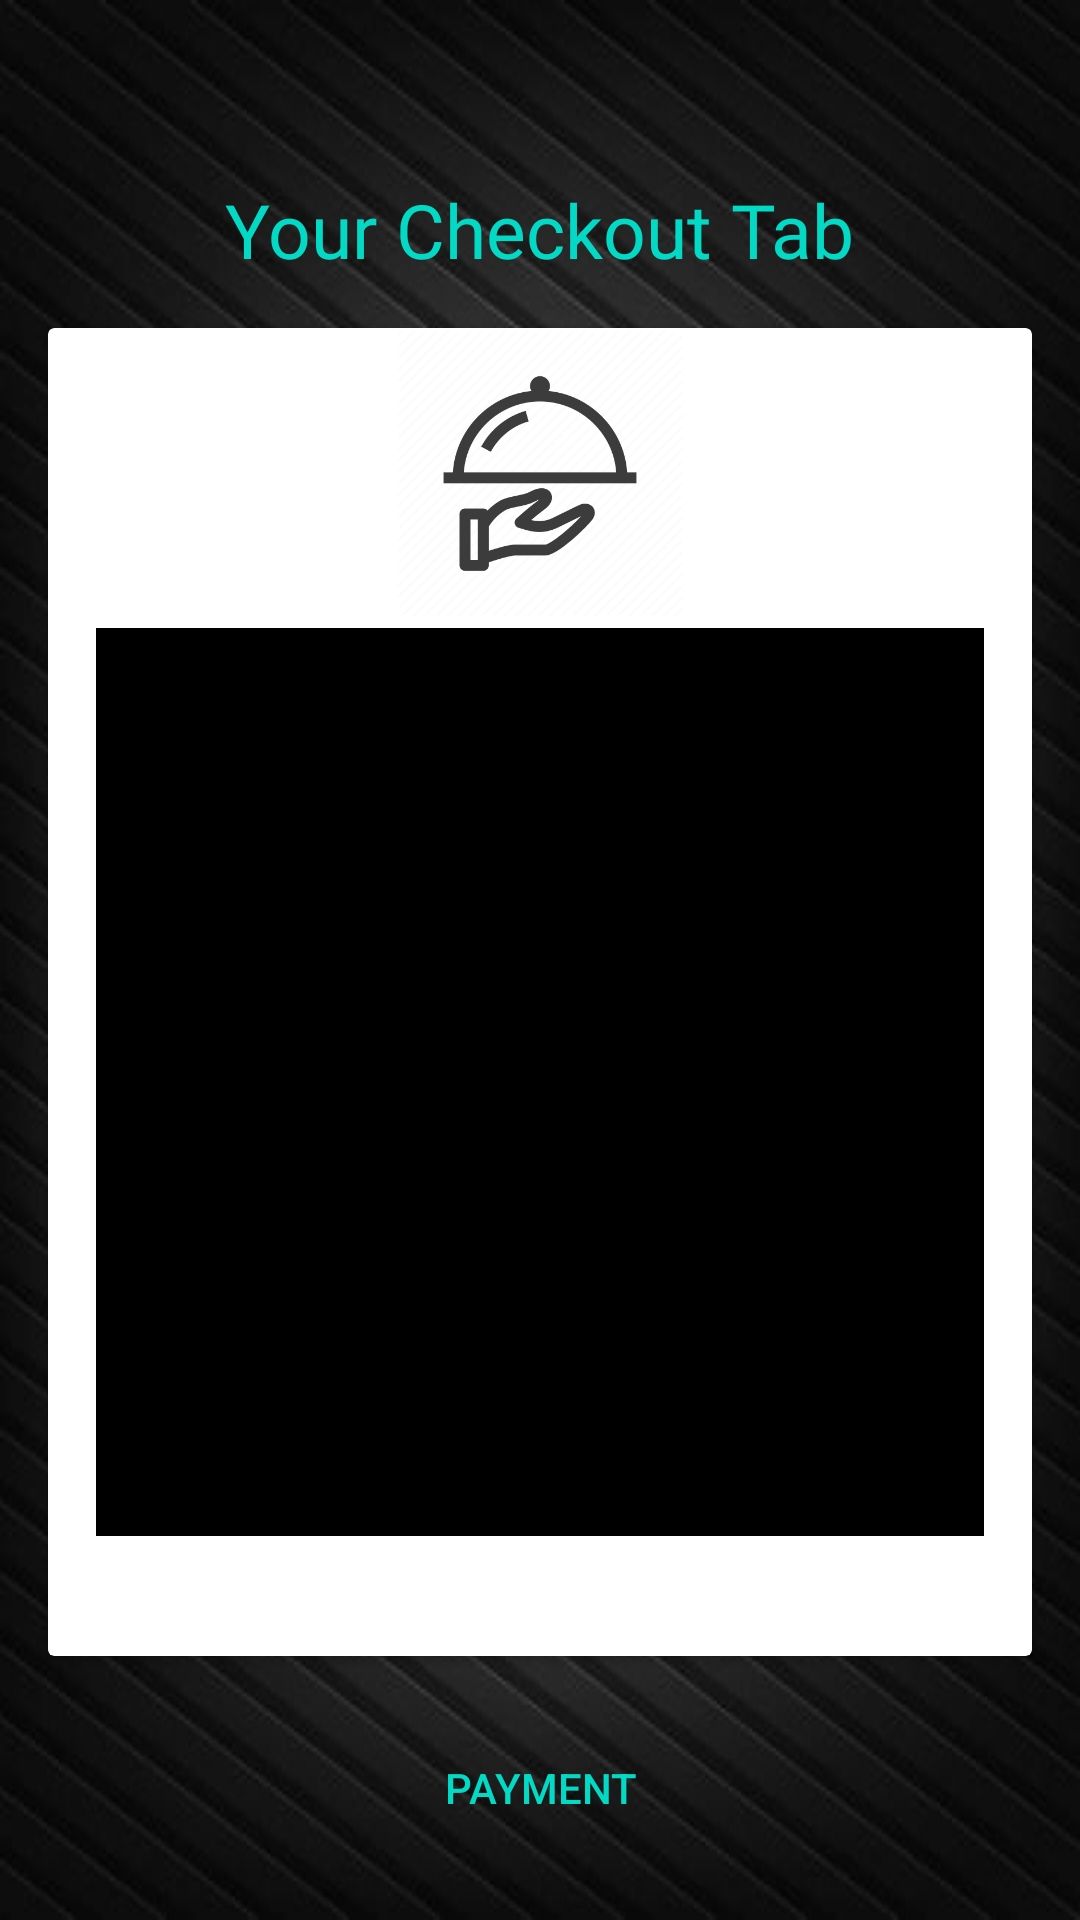

Named icons in this screenshot (1080×1920) and their centers, point (x, y):
appicon: point (540, 473)
